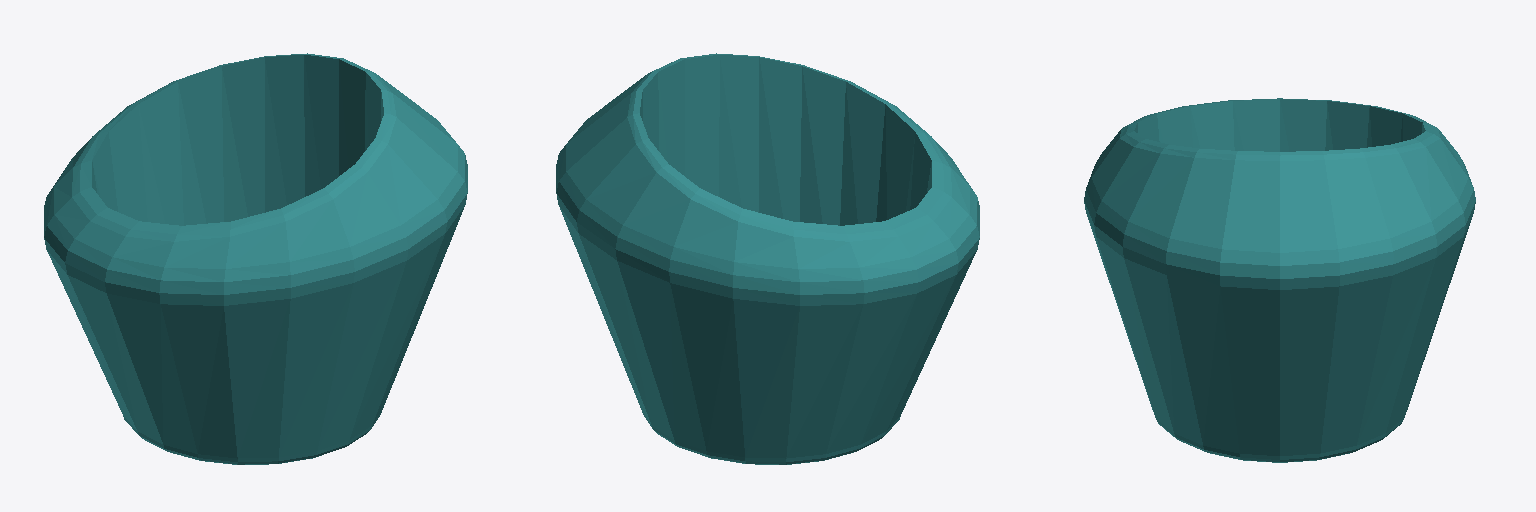
Rendered from Texture_ToothBrushHolder.obj.
The picture shows the model from 3 angles: view 1: azimuth 30°, elevation 25°; view 2: azimuth 150°, elevation 25°; view 3: azimuth 270°, elevation 25°; orthographic projection.
Parts seen in each view (by area): view 1: ToothBrush_HolderBase; view 2: ToothBrush_HolderBase; view 3: ToothBrush_HolderBase.
Part boxes in pixels (x1,y1,x2,y2): ToothBrush_HolderBase: (44,53,467,464); ToothBrush_HolderBase: (556,53,979,464); ToothBrush_HolderBase: (1084,98,1475,462).
Size of the model in its own units: 2.9 by 2.29 by 2.58.